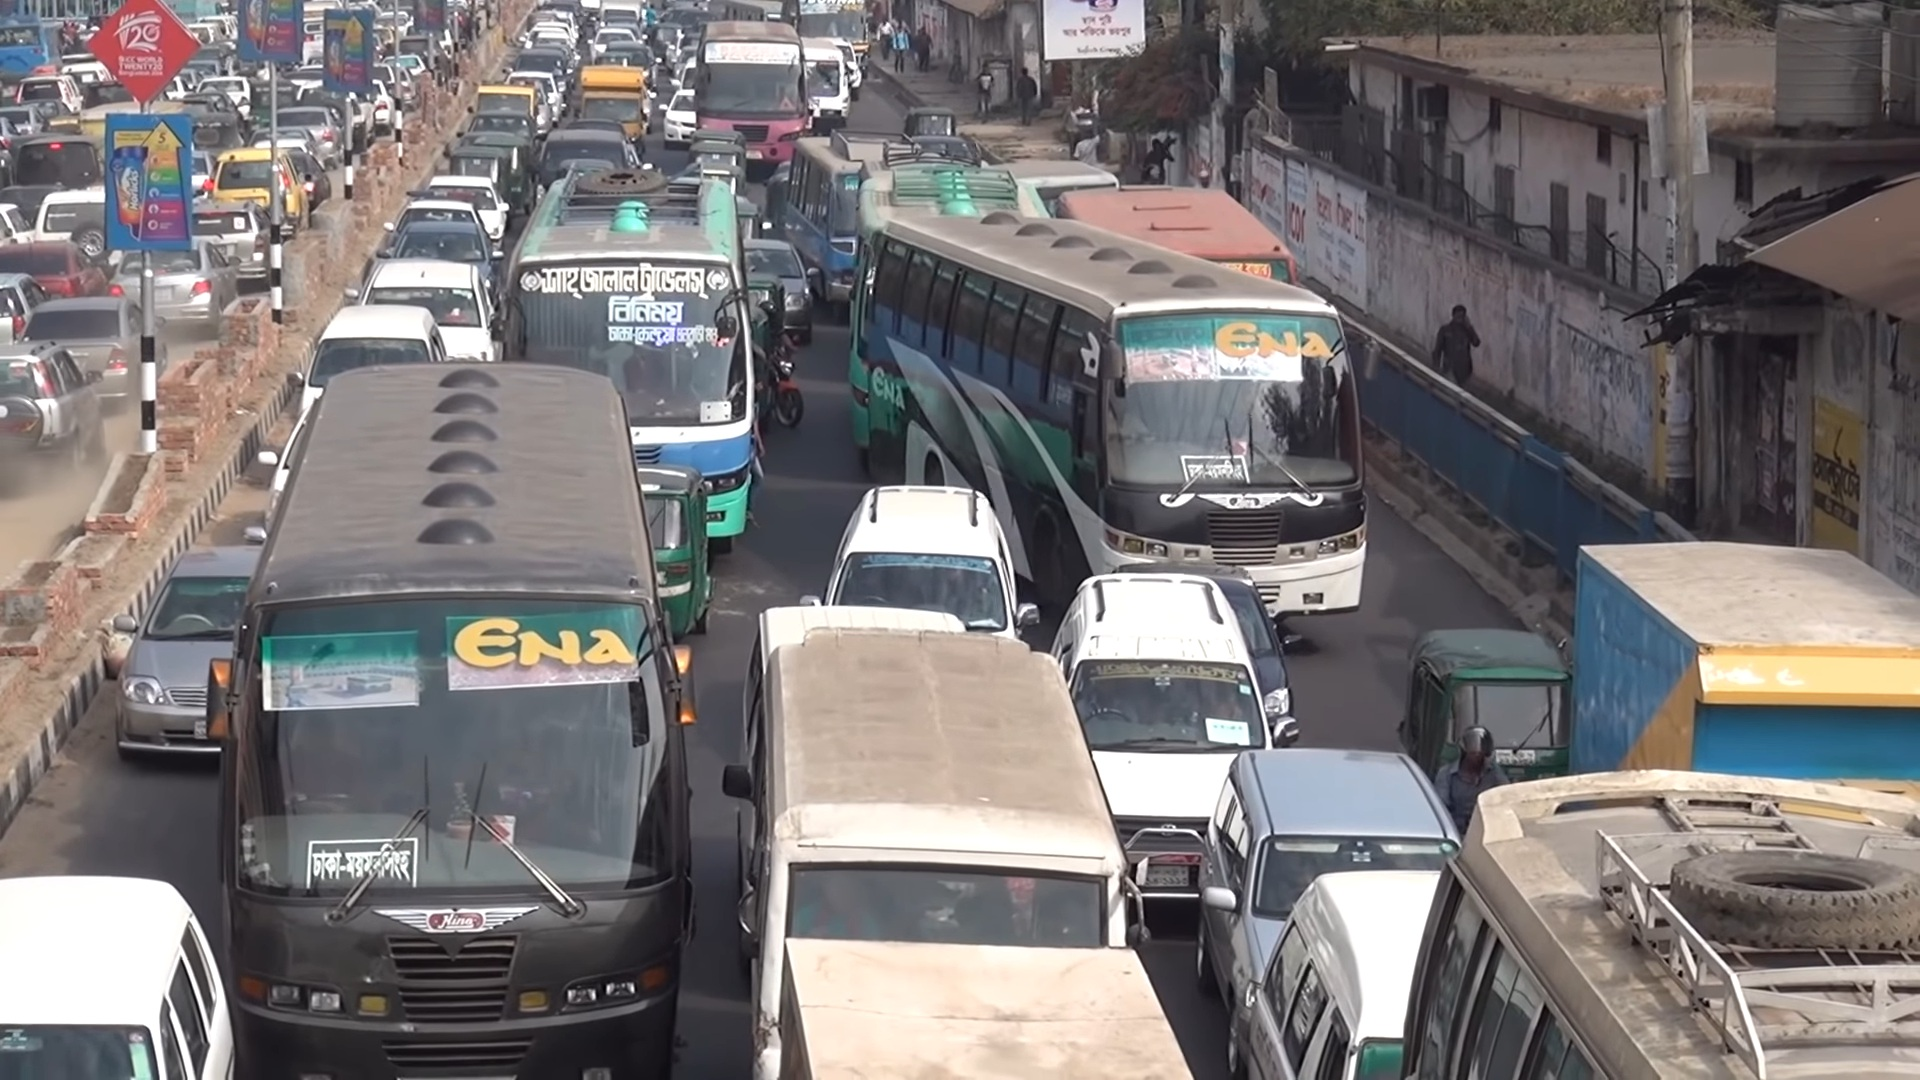bus: (207, 359, 699, 1080), (866, 212, 1367, 618), (724, 634, 1151, 1077), (1403, 766, 1920, 1077), (502, 157, 761, 553), (851, 152, 1017, 451), (790, 131, 940, 320), (1055, 185, 1303, 289), (692, 18, 811, 171)
car: (1054, 570, 1302, 907), (1, 870, 233, 1079), (1247, 870, 1447, 1080), (793, 483, 1038, 632), (115, 545, 266, 762), (1116, 564, 1303, 732), (345, 257, 501, 376), (291, 307, 448, 422), (13, 299, 171, 409), (1, 339, 103, 469), (105, 241, 243, 332), (207, 145, 313, 229), (531, 124, 645, 196), (745, 239, 822, 342), (186, 208, 286, 282), (415, 175, 513, 245), (1, 239, 113, 297), (372, 222, 505, 266), (382, 200, 495, 249), (13, 137, 107, 193), (38, 182, 113, 243), (1, 274, 59, 331), (195, 70, 257, 123), (498, 73, 570, 116), (811, 49, 853, 120), (20, 73, 76, 124), (282, 107, 340, 152), (516, 49, 578, 87), (659, 88, 695, 146), (361, 76, 401, 124), (193, 116, 257, 142)
cng: (1399, 626, 1571, 778), (642, 469, 711, 649), (913, 107, 961, 132)
truck: (576, 66, 653, 145), (462, 87, 549, 120)
